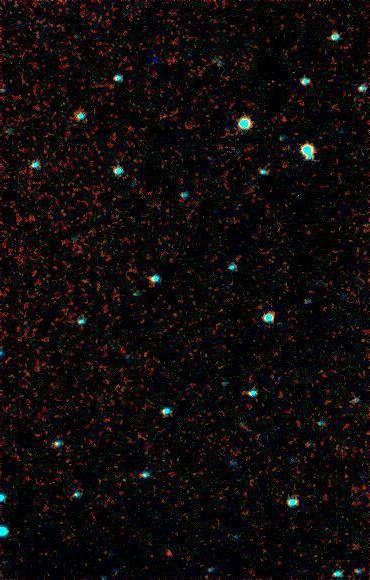star: (152, 539, 182, 569)
